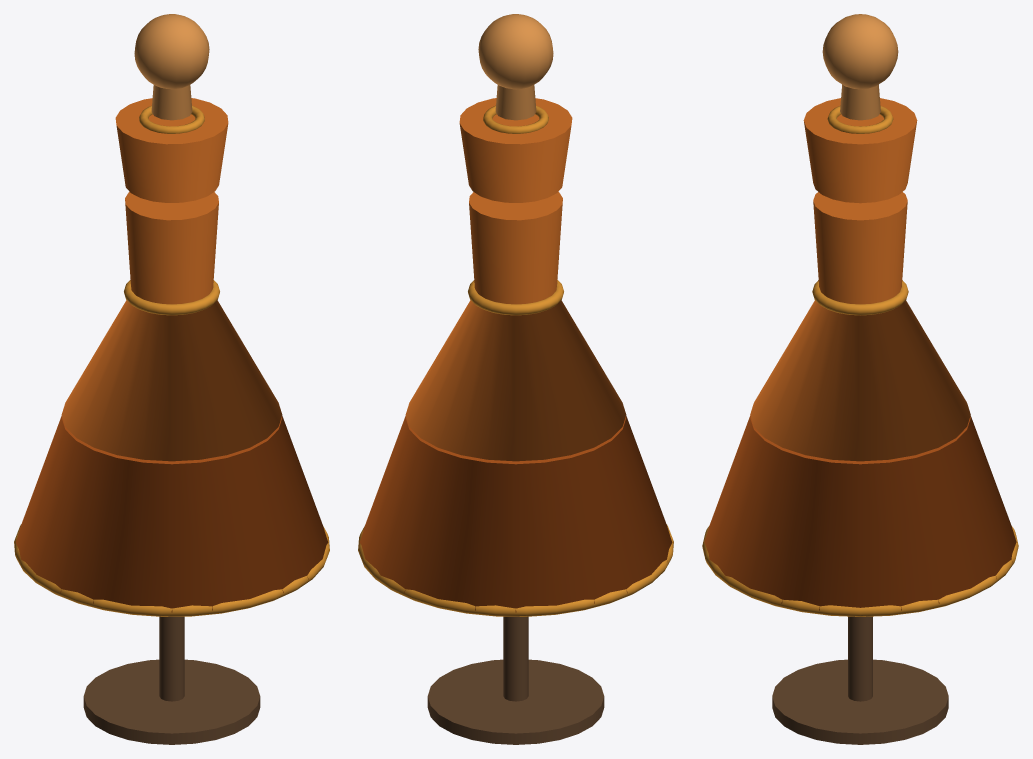
The model's file is vastraverse_mannequin.glb.
3 views of the same model, side by side, from view 1: azimuth 30°, elevation 25°; view 2: azimuth 150°, elevation 25°; view 3: azimuth 270°, elevation 25° (orthographic).
Visible parts, largest first — view 1: SmartWeave_Mannequin; view 2: SmartWeave_Mannequin; view 3: SmartWeave_Mannequin.
Boxes of the visible parts, bbox=[...] form: SmartWeave_Mannequin: bbox=[14, 14, 329, 744]; SmartWeave_Mannequin: bbox=[358, 14, 673, 744]; SmartWeave_Mannequin: bbox=[702, 14, 1018, 744].
Size of the model in its own units: 1 by 2.42 by 1.
